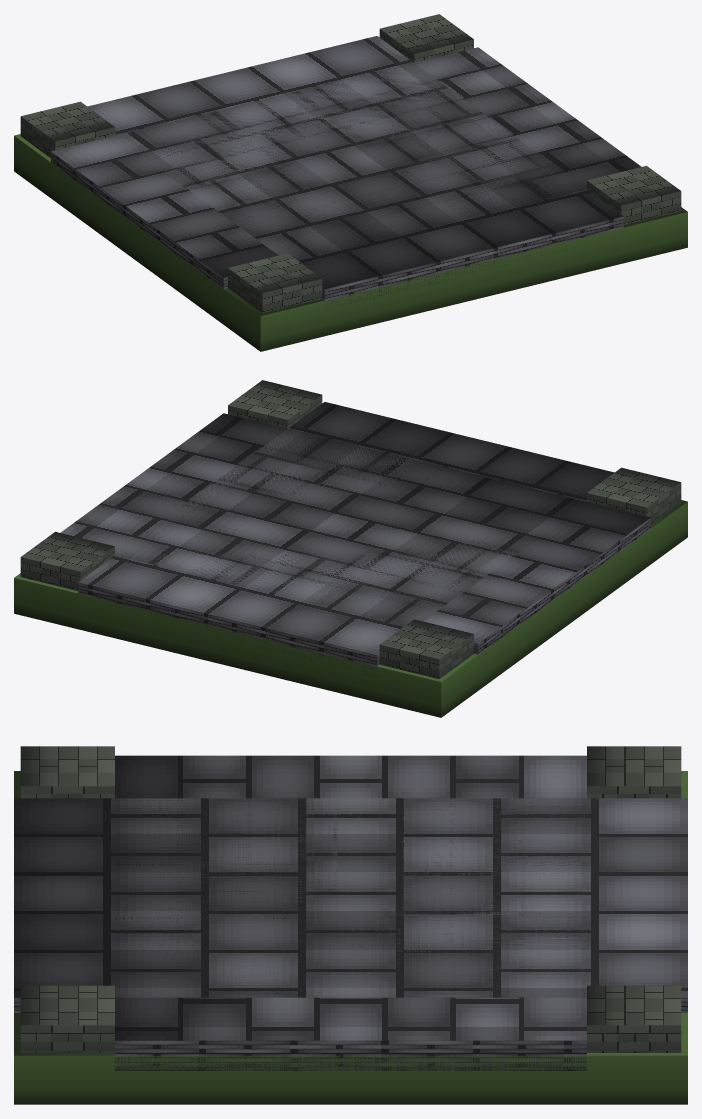
Rendered from road_cross.gltf.
3 renders of one model, top to bottom at view 1: azimuth 30°, elevation 25°; view 2: azimuth 150°, elevation 25°; view 3: azimuth 270°, elevation 25°, orthographic. The views are drawn at different scales.
Visible parts, largest first — view 1: road_cross; view 2: road_cross; view 3: road_cross.
Part boxes in pixels (x1=…): road_cross: x1=14, y1=14, x2=687, y2=351; road_cross: x1=14, y1=380, x2=687, y2=717; road_cross: x1=14, y1=746, x2=687, y2=1104.
Size of the model in its own units: 1 by 0.125 by 1.
Materials: 1 (1 with a texture image).
